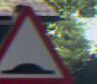Speed Breaker ahead: (0, 4, 70, 83)
